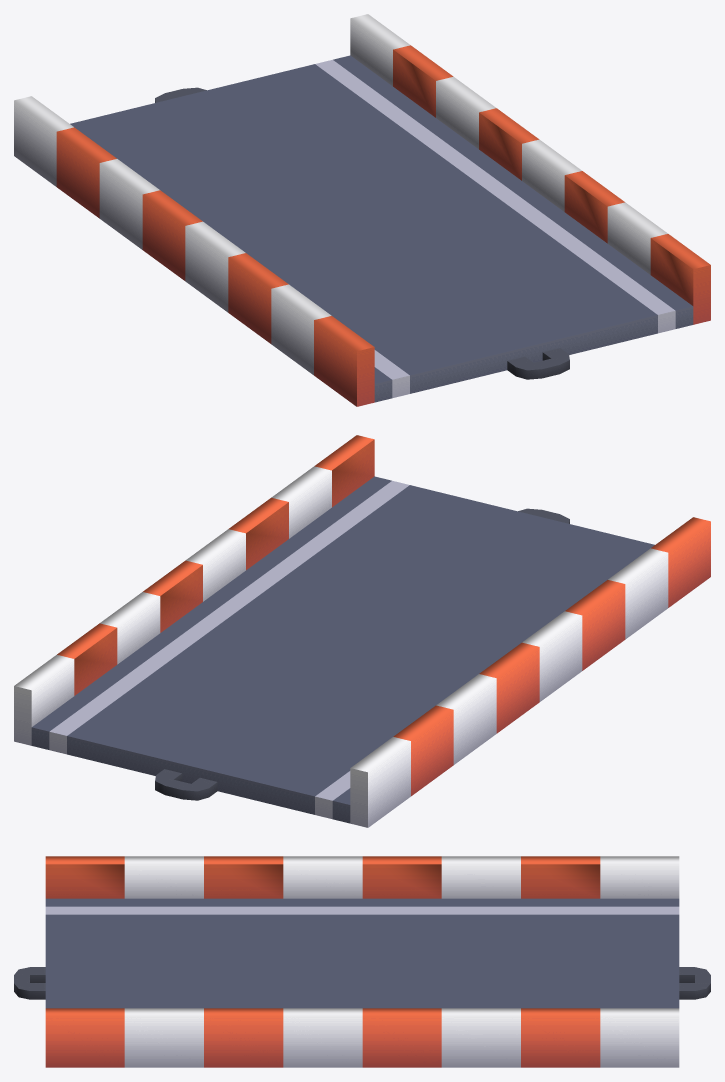
Rendered from track-road-wide-straight.044_lev1.glb.
3 renders of one model, top to bottom at view 1: azimuth 30°, elevation 25°; view 2: azimuth 150°, elevation 25°; view 3: azimuth 270°, elevation 25°, orthographic. The views are drawn at different scales.
Visible parts, largest first — view 1: track-road-wide-straight.044_lev1; view 2: track-road-wide-straight.044_lev1; view 3: track-road-wide-straight.044_lev1.
Part boxes in pixels (x1,y1,x2,y2): track-road-wide-straight.044_lev1: (14, 14, 710, 406); track-road-wide-straight.044_lev1: (14, 435, 710, 827); track-road-wide-straight.044_lev1: (14, 856, 710, 1067).
Bounding box in the file's own units: 2 × 0.3 × 3.69.
1 material, 1 textured.
